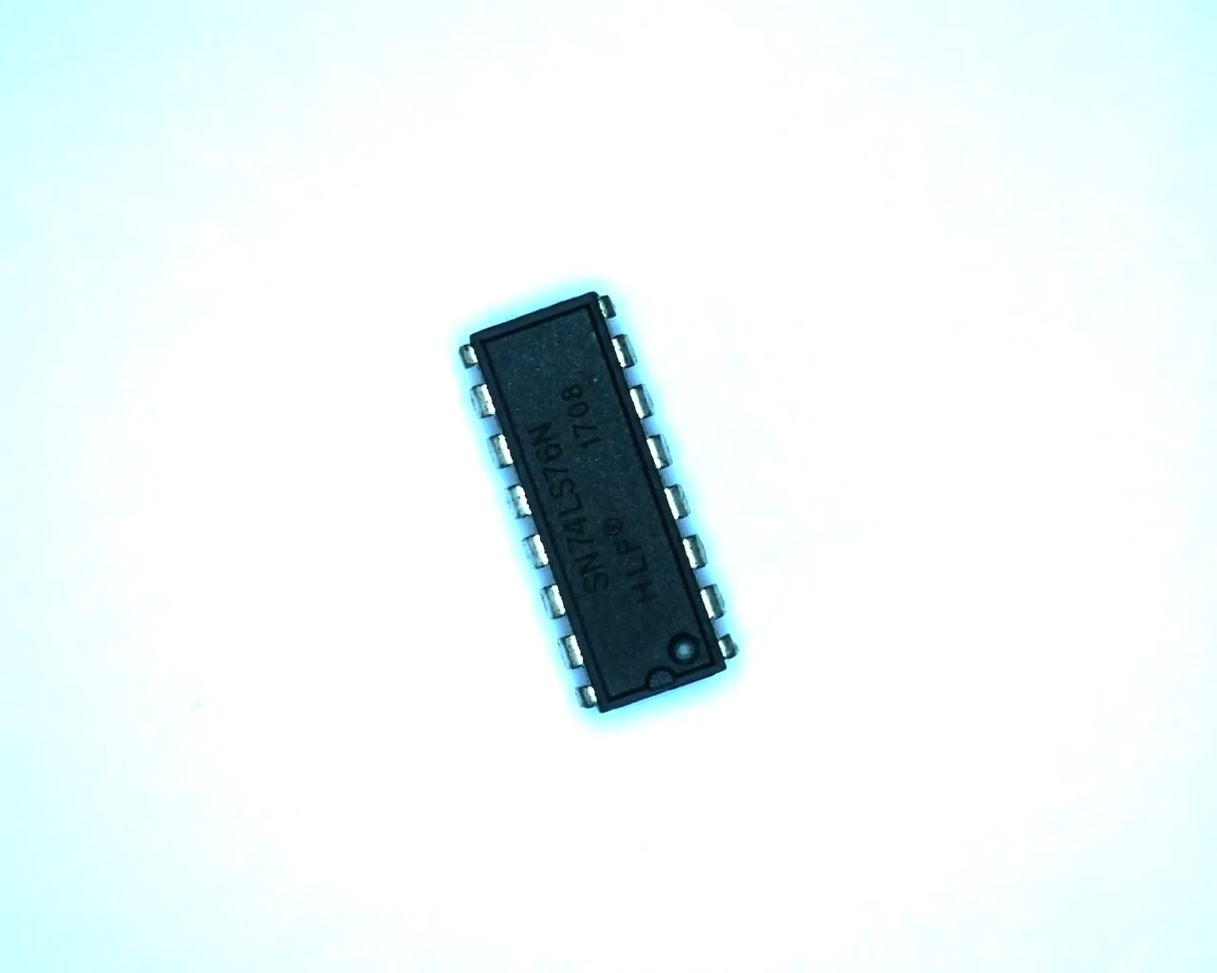IC: (442, 282, 752, 736)
notch: (644, 668, 686, 696)
